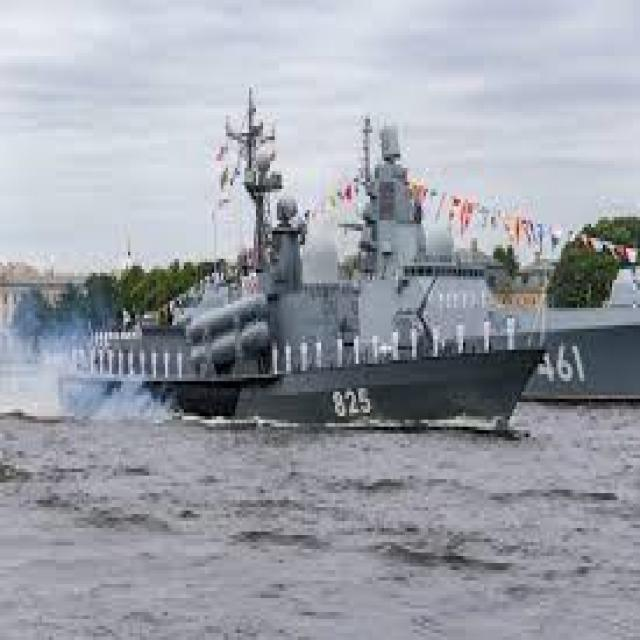navalvessels: (58, 79, 523, 428), (316, 119, 640, 414)
